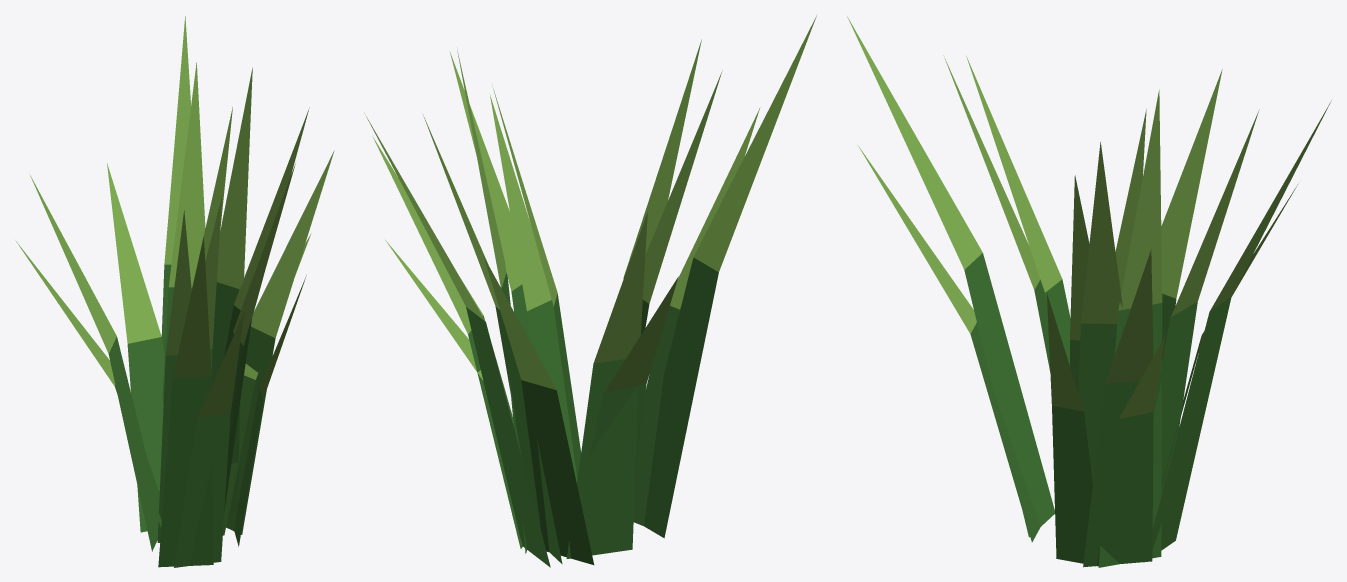
File: grass-tuft.glb
3 views of the same model, side by side, from view 1: azimuth 30°, elevation 25°; view 2: azimuth 150°, elevation 25°; view 3: azimuth 270°, elevation 25° (orthographic). The views are drawn at different scales.
Visible parts, largest first — view 1: grass-tuft; view 2: grass-tuft; view 3: grass-tuft.
Part boxes in pixels (left/top/right/bottom): grass-tuft: left=15, top=16, right=334, bottom=567; grass-tuft: left=364, top=15, right=816, bottom=567; grass-tuft: left=847, top=16, right=1331, bottom=567.
Size of the model in its own units: 0.6388 by 0.8959 by 0.7849.
